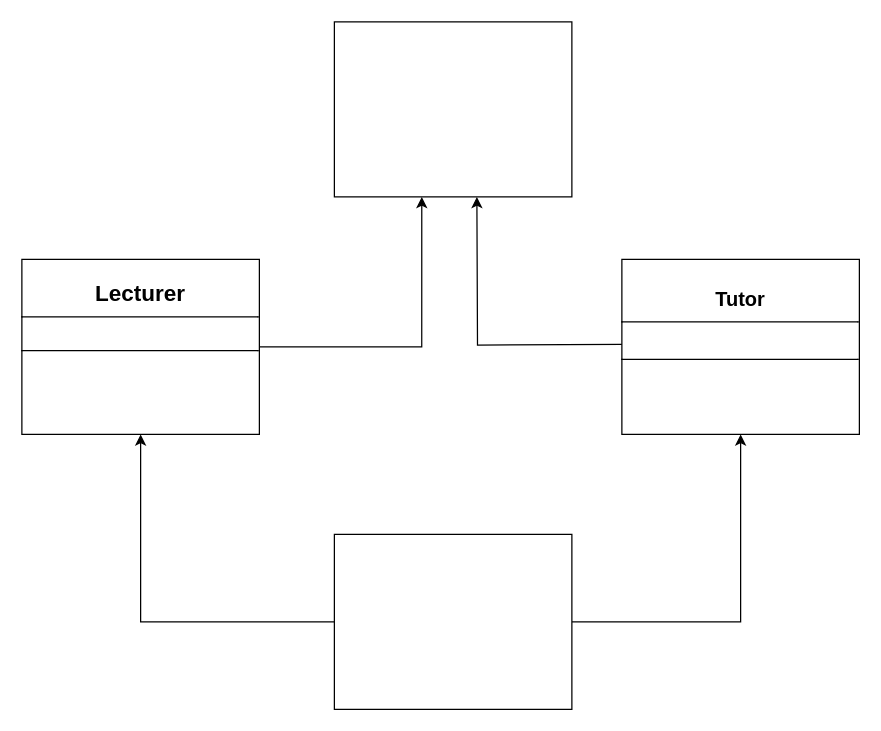
Image size: 881x731. Some labels were removed from this diagram. The shapes that lost their labels are listed below. From the top down, each one's centre as x and y in pixels, then its label:
At pixel 452 109: "Teacher".
At pixel 452 621: "TeacherGui".
